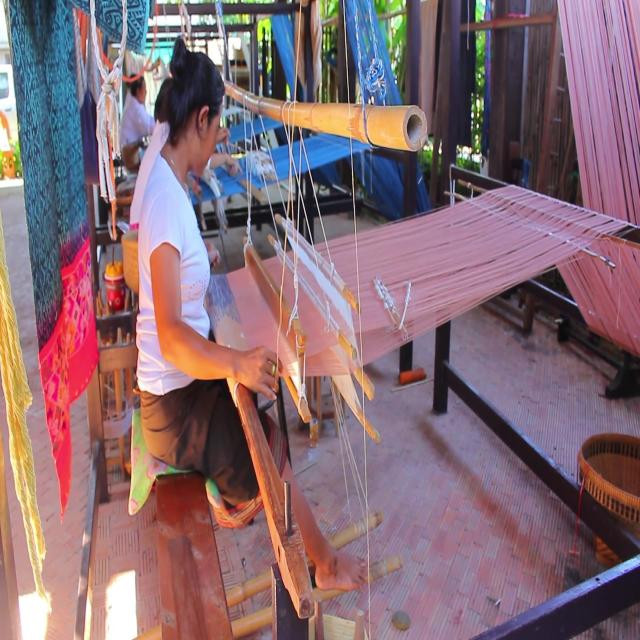not-gloved: (235, 343, 283, 402), (203, 245, 221, 272)
